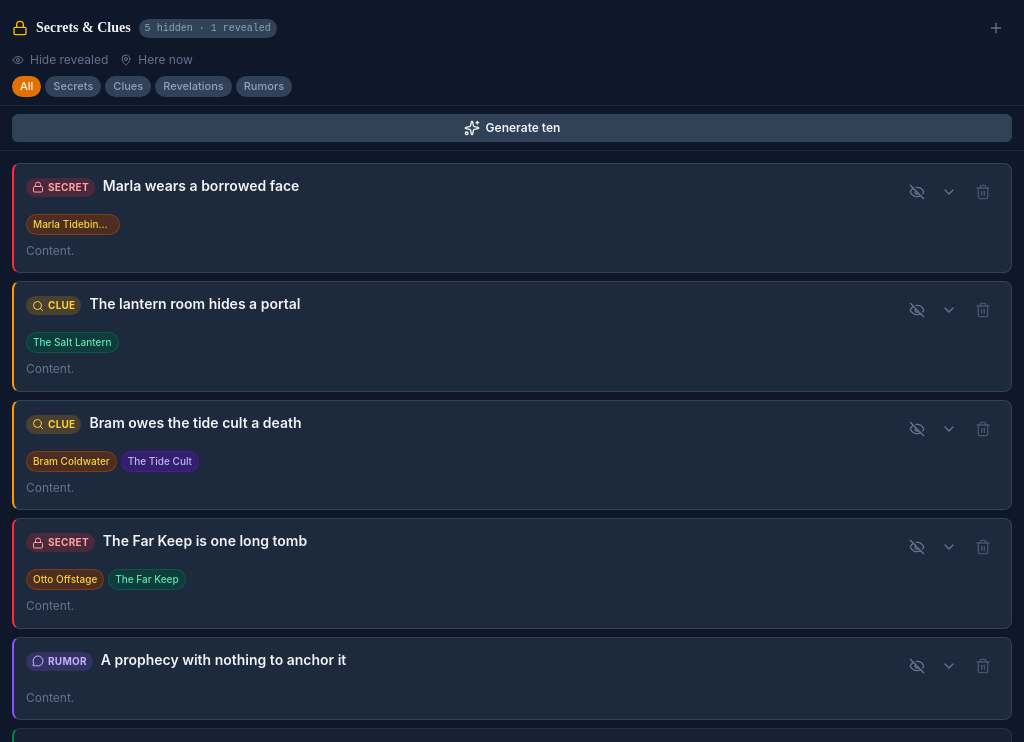
Test: SecretsTracker — the here-now filter narrows to the live scene › keeps secrets linked to a scene NPC or the scene location, and drops the rest
Step 1. Click the button "Here now" → (156,60), box [120, 52, 193, 68]
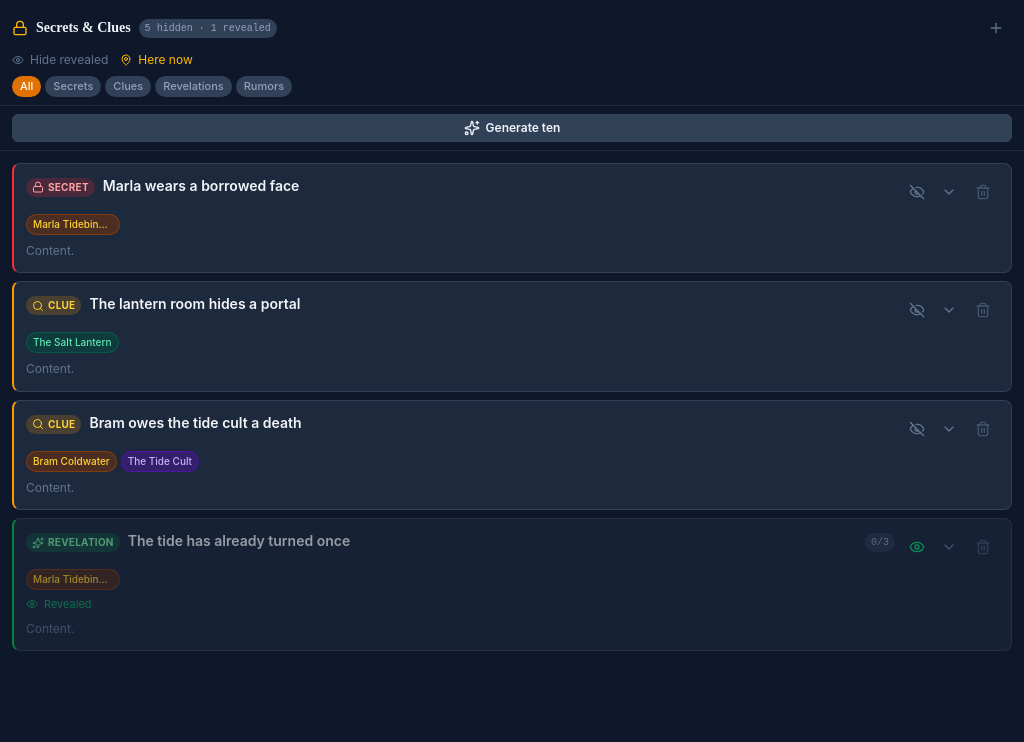
Expected: the button "Marla wears a borrowed face" is shown, [103, 176, 895, 196]
Now the button "The Far Keep is one long tomb" is gone
Now the button "A prophecy with nothing to anchor it" is gone
